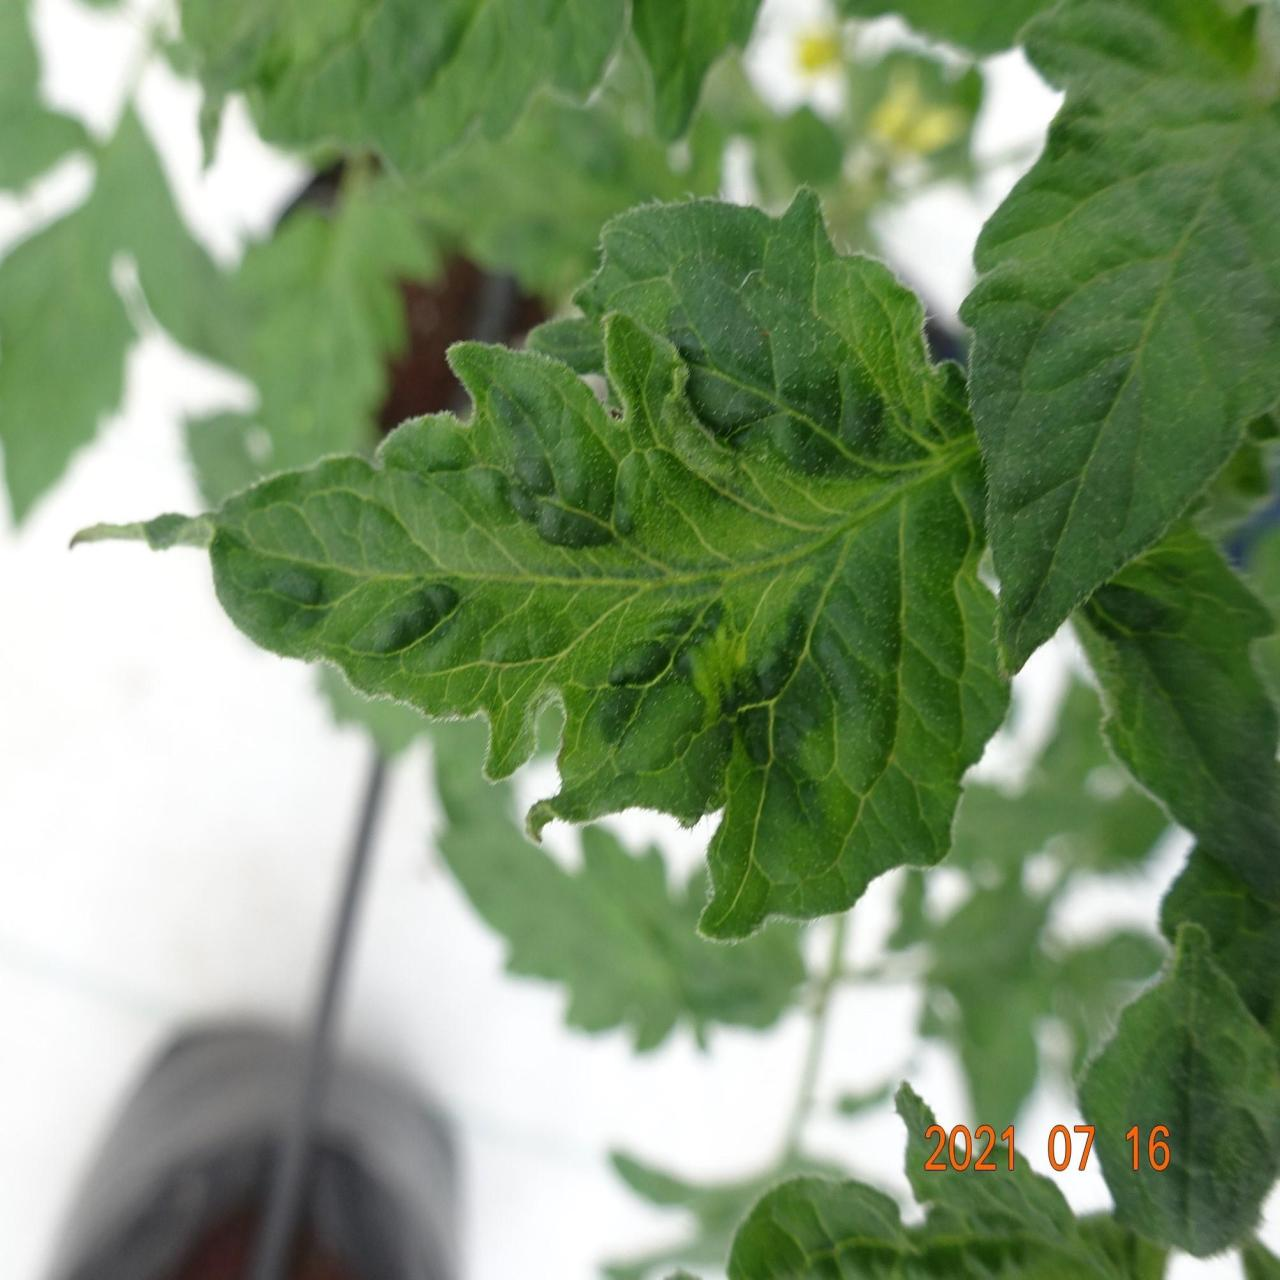T_L_R: (209, 195, 1007, 939), (965, 2, 1280, 667), (729, 1087, 1166, 1280), (1074, 527, 1280, 903), (179, 1, 625, 173), (1083, 926, 1280, 1259), (1164, 847, 1280, 1035)
